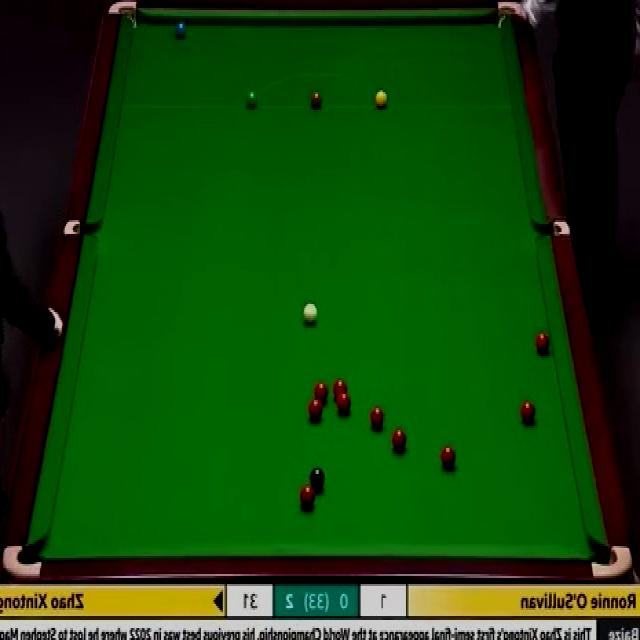black-ball: (309, 466, 326, 495)
blue-ball: (172, 18, 188, 43)
brown-ball: (309, 91, 323, 111)
green-ball: (244, 90, 258, 112)
red-ball: (520, 397, 538, 427), (390, 429, 408, 456), (440, 444, 458, 469), (299, 485, 315, 512), (368, 408, 384, 432), (336, 393, 352, 416), (536, 331, 551, 355), (332, 379, 349, 400), (308, 398, 323, 420), (313, 382, 329, 402)
white-ball: (300, 299, 321, 329)
yellow-ball: (374, 90, 388, 110)
